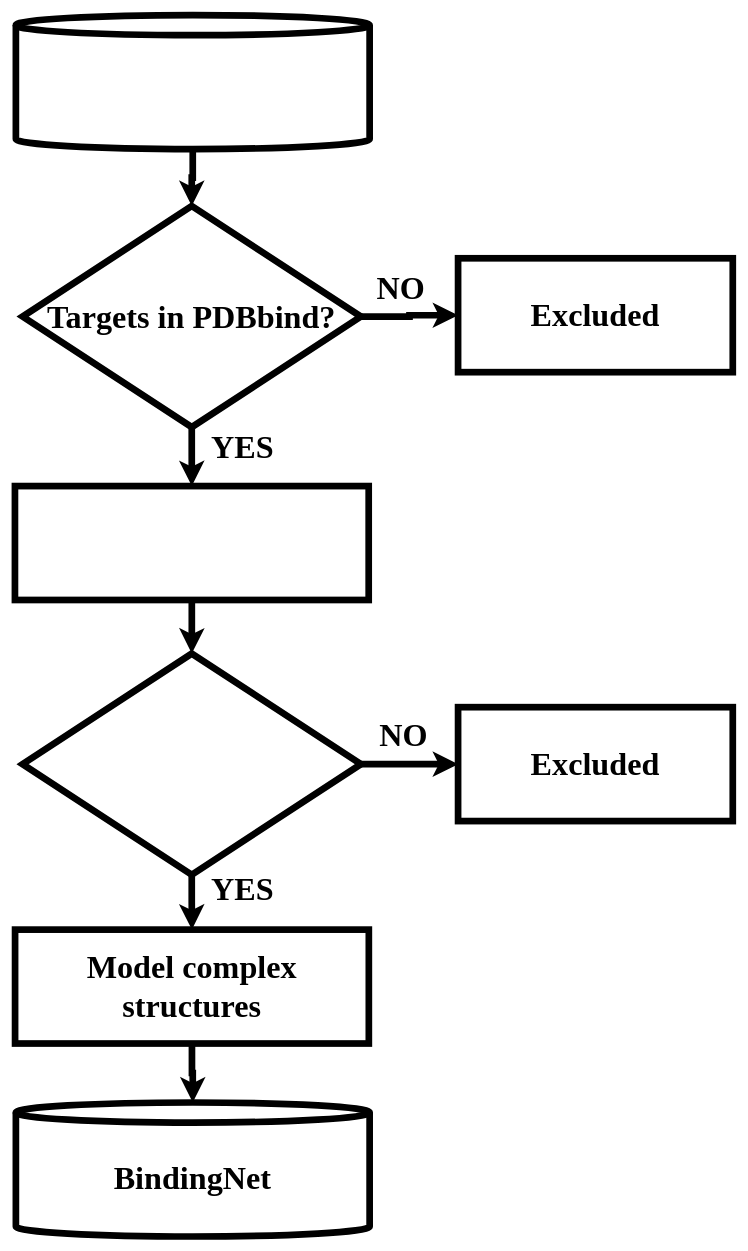
The diagram is 748 pixels wide and 1251 high, and some of its shapes have lost their labels. Here are the shapes that lost their labels. From the top down, the centre of each, then its label:
At point (192, 81): "ChEMBL v28".
At point (191, 542): "Extract compounds with binding data".
At point (191, 764): "Compounds similar with crystal ligands in PDBbind?".
